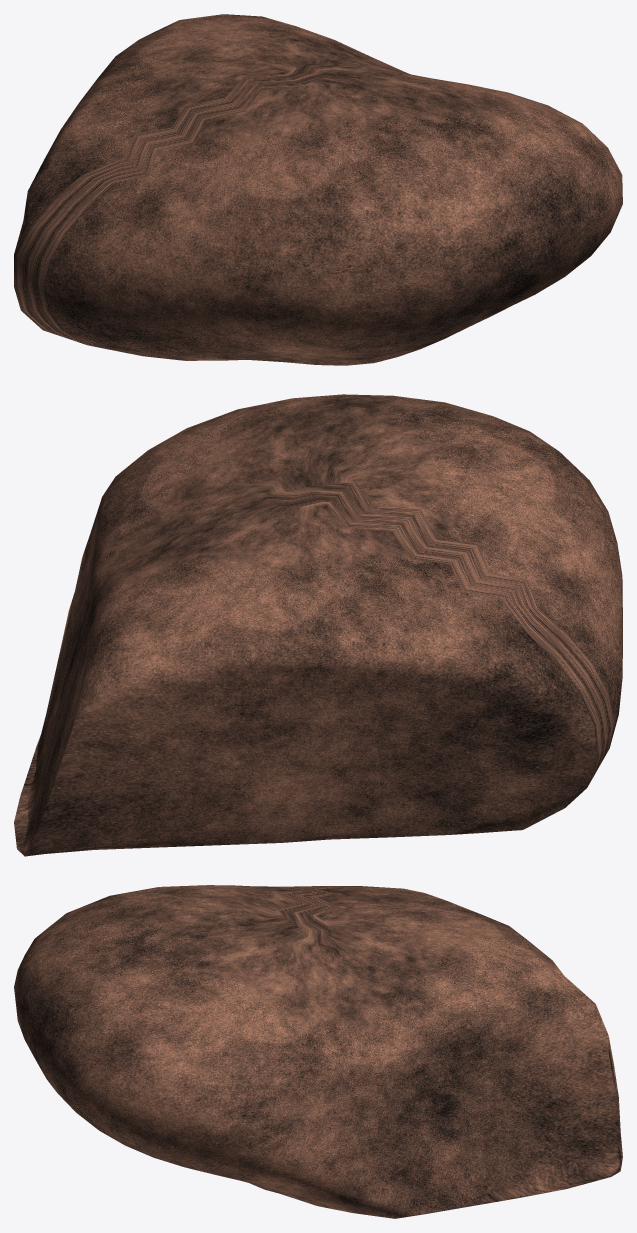
Rendered from rock_5.dae.
3 views of the same model, one above another, from view 1: azimuth 30°, elevation 25°; view 2: azimuth 150°, elevation 25°; view 3: azimuth 270°, elevation 25° (orthographic). The views are drawn at different scales.
Visible parts, largest first — view 1: rock_5-node; view 2: rock_5-node; view 3: rock_5-node.
Boxes of the visible parts, bbox=[...] form: rock_5-node: bbox=[14, 14, 622, 365]; rock_5-node: bbox=[14, 394, 622, 856]; rock_5-node: bbox=[14, 885, 622, 1218].
Size of the model in its own units: 1.65 by 1.82 by 0.7134.
1 material, 1 textured.
